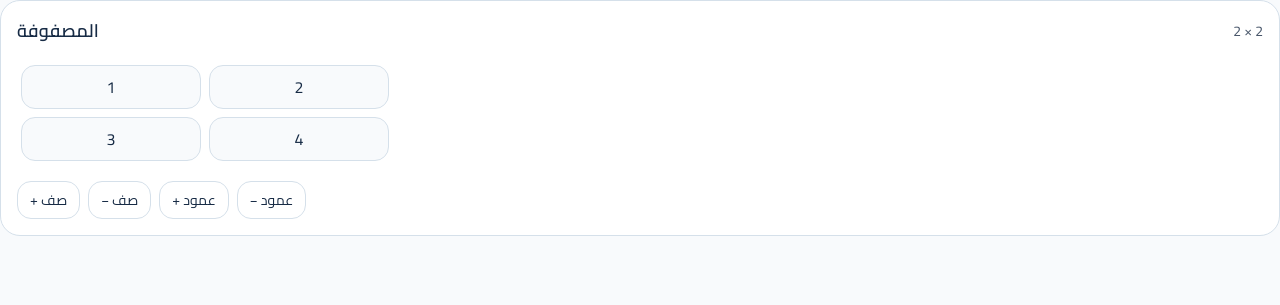
Test: Linear Algebra - MatrixEditor › adds rows and columns with zero values
Click the button with aria-label "إضافة صف" at (49, 200), box [17,181,80,219]
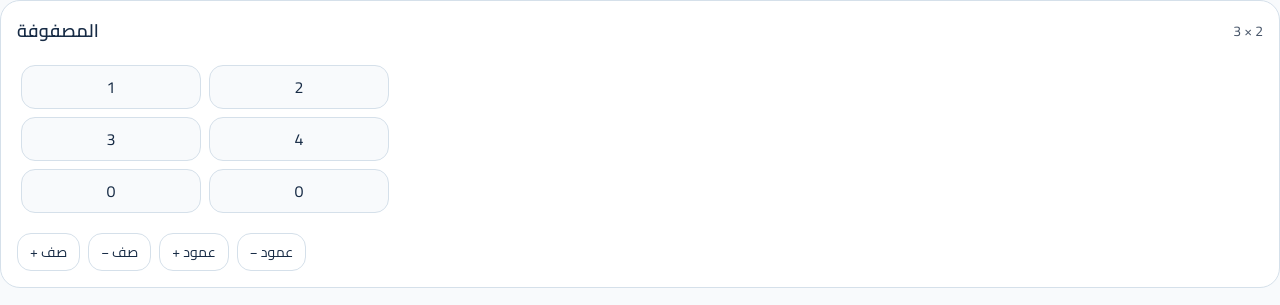
Check: the text "3 × 2" is shown, box [1233,21,1263,41]
Click the button with aria-label "إضافة عمود" at (194, 252), box [159,233,229,271]
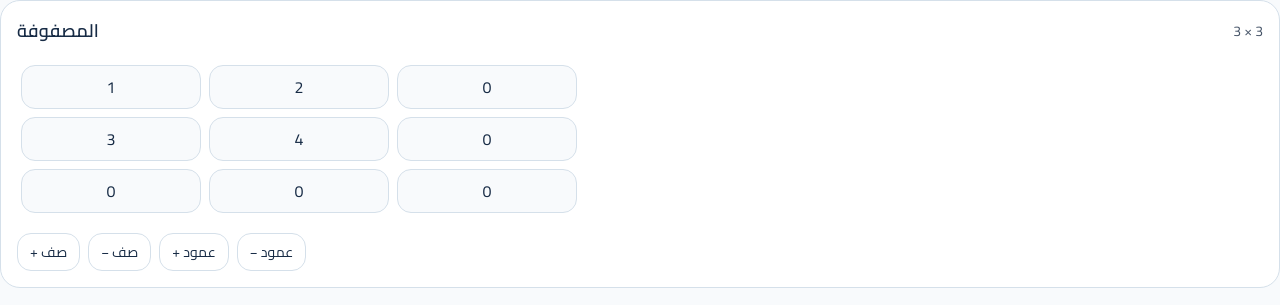
Check: the text "3 × 3" is shown, box [1233,21,1263,41]
Check: the field named "صف 3, عمود 3" holds "0", box [397,169,577,213]
